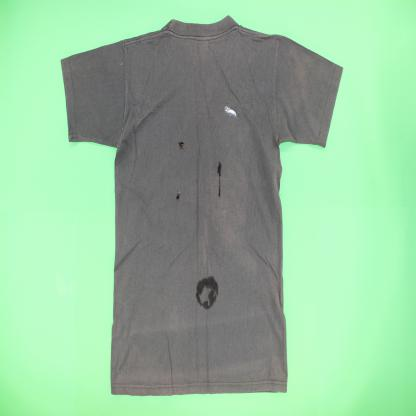stain: (193, 273, 223, 312), (215, 158, 223, 201), (223, 103, 240, 123), (174, 184, 182, 204), (177, 138, 186, 153)
